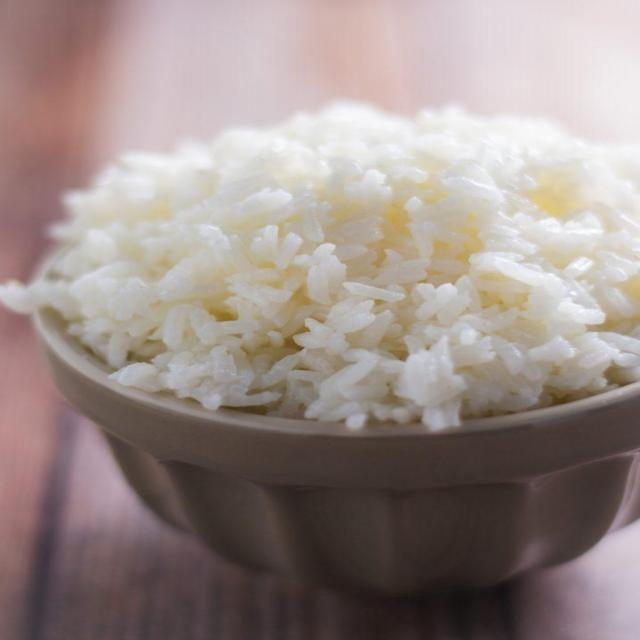rice: (42, 103, 638, 415)
